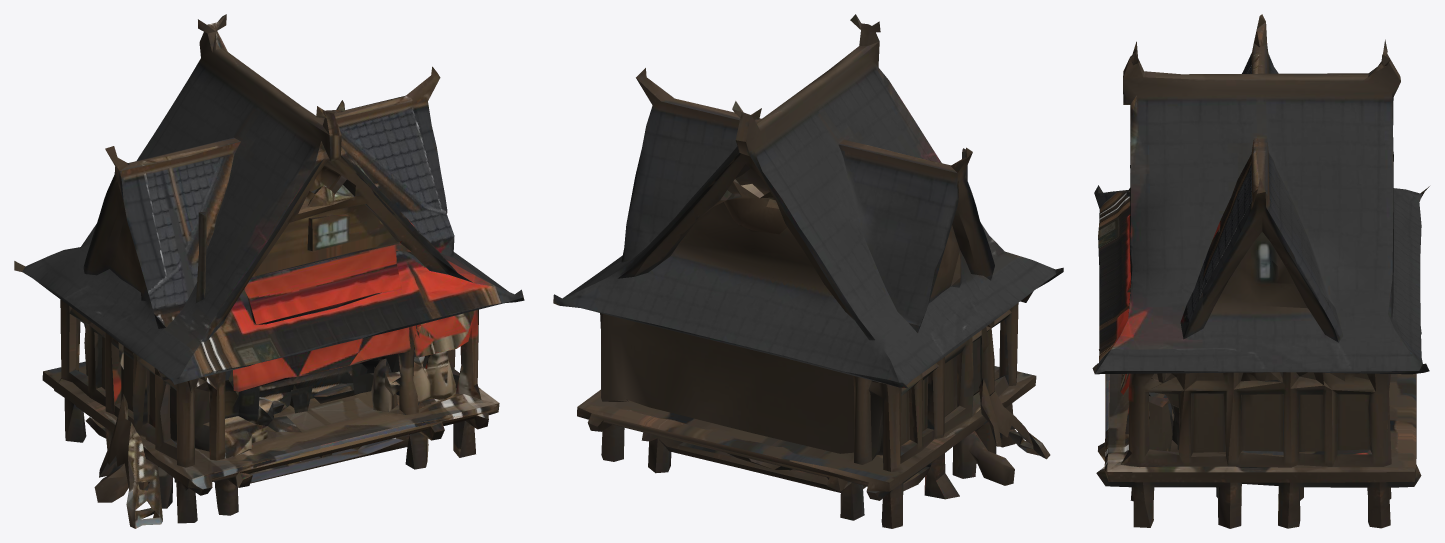
File: ayutthaya_taller.glb
The picture shows the model from 3 angles, left to right: view 1: azimuth 30°, elevation 25°; view 2: azimuth 150°, elevation 25°; view 3: azimuth 270°, elevation 25°; orthographic projection. The views are drawn at different scales.
Visible parts, largest first — view 1: geometry_0; view 2: geometry_0; view 3: geometry_0.
Part boxes in pixels (left/top/right/bottom): geometry_0: left=14, top=14, right=524, bottom=528; geometry_0: left=553, top=14, right=1063, bottom=528; geometry_0: left=1092, top=14, right=1429, bottom=528.
Bounding box in the file's own units: 2.4 × 2.42 × 1.82.
1 material, 1 textured.
